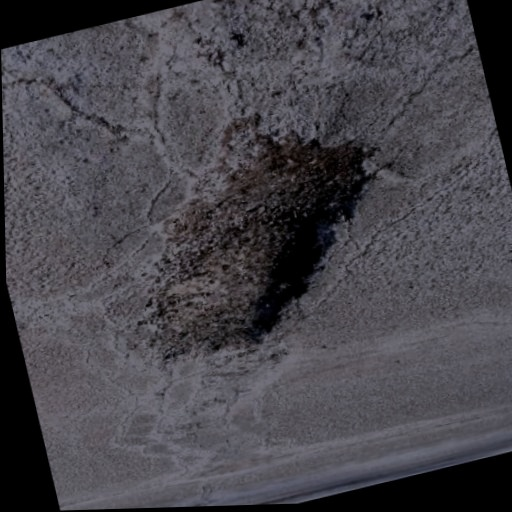pothole: (88, 93, 416, 383)
